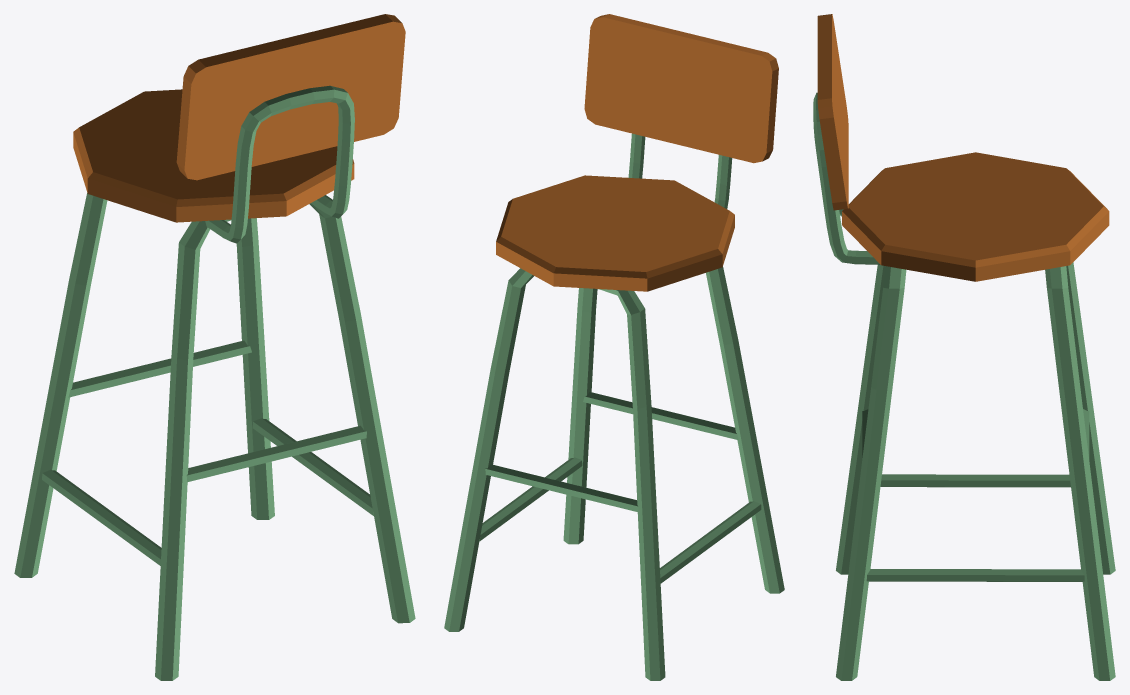
Rendered from Bar Stool 1.fbx.
3 views of the same model, side by side, from view 1: azimuth 30°, elevation 25°; view 2: azimuth 150°, elevation 25°; view 3: azimuth 270°, elevation 25° (orthographic). The views are drawn at different scales.
Parts seen in each view (by area): view 1: Node 0; view 2: Node 0; view 3: Node 0.
Boxes of the visible parts, bbox=[...] form: Node 0: bbox=[14, 14, 415, 680]; Node 0: bbox=[444, 14, 784, 680]; Node 0: bbox=[813, 14, 1115, 680].
Size of the model in its own units: 0.351 by 0.7259 by 0.3135.
